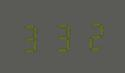three: (18, 21, 46, 53), (48, 20, 76, 52)
two: (77, 19, 105, 51)
